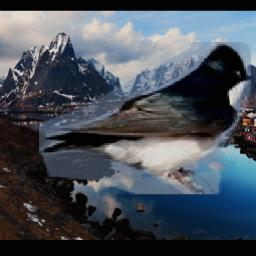Swallow: (40, 42, 252, 194)
